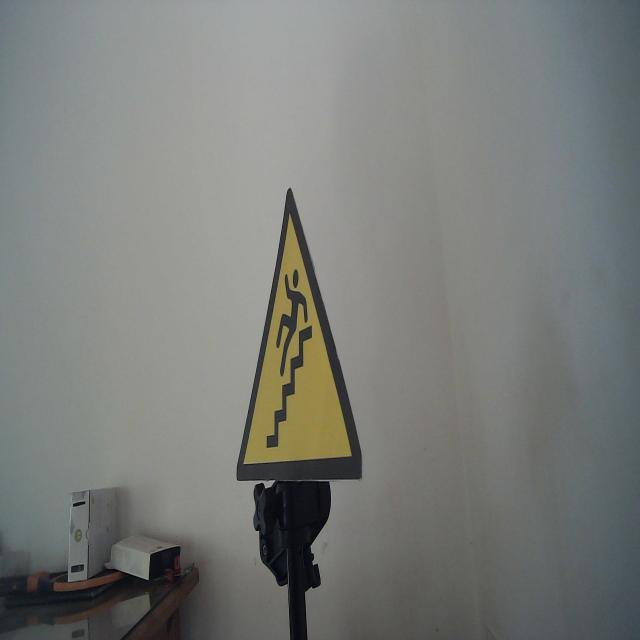stairs: (236, 186, 364, 484)
